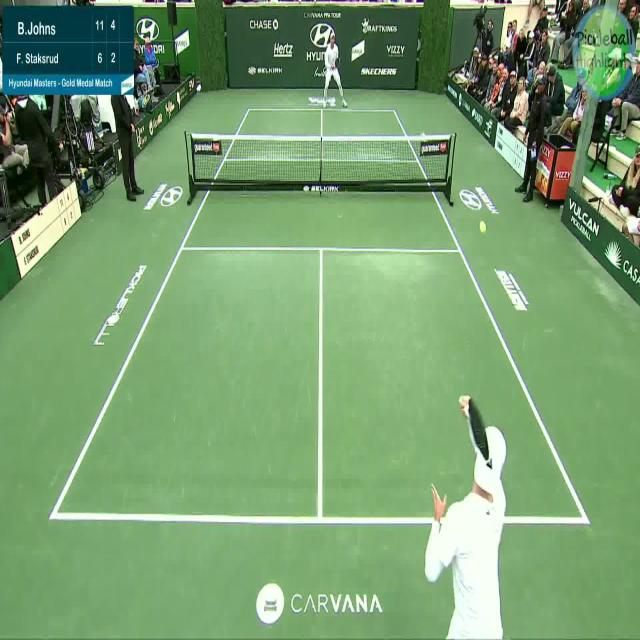Court: (49, 107, 587, 516)
ball: (473, 215, 497, 245)
